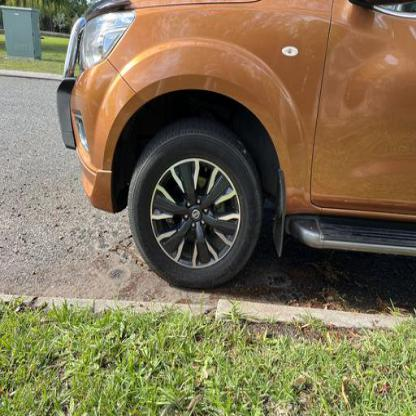Tire: (127, 116, 264, 292)
